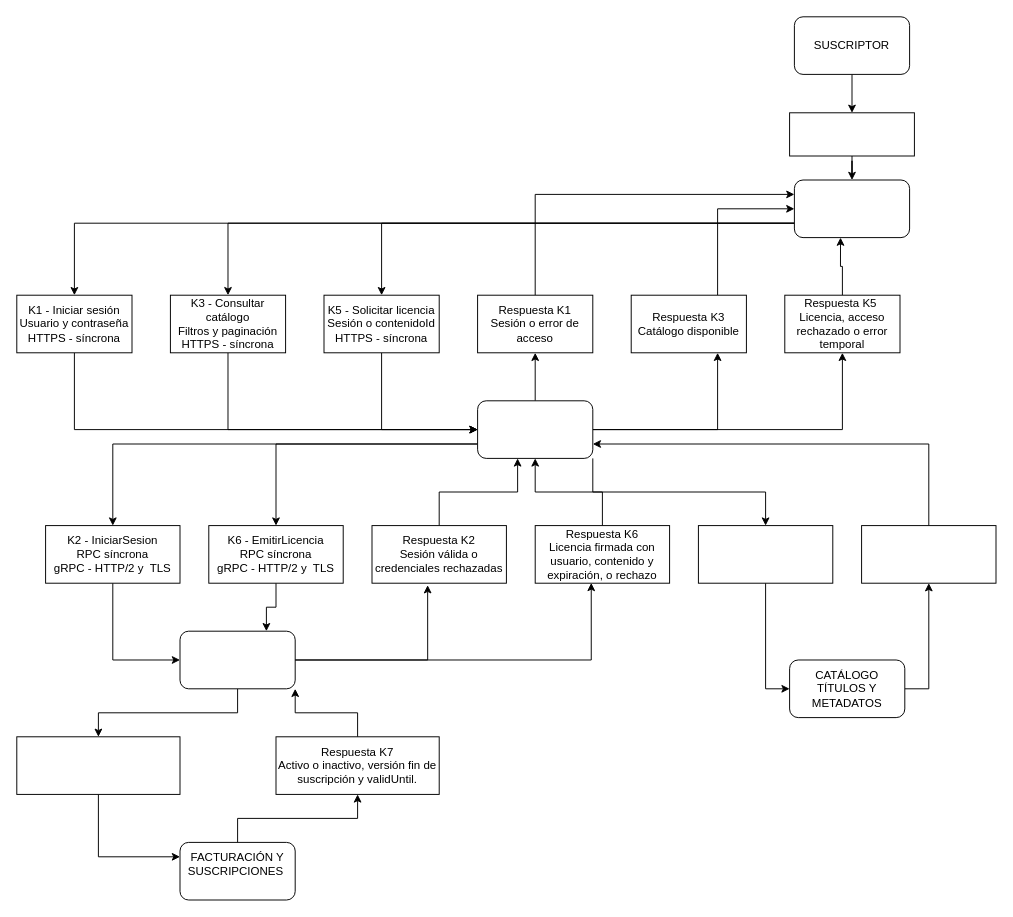
Image size: 1013x917. Some labels were removed from this diagram. Here are the shapes that lost their labels. From the top down, the centre of each, then its label:
At pixel 851 134: "reproductor Cliente web, móvil o TV".
At pixel 851 208: "REPRODUCTOR CLIENTE WEB. MÓVIL O TV".
At pixel 535 429: "ENTRADA WEB Spring Boot - HTTPS".
At pixel 765 554: "K4 - ListarTitulos RPC síncrona gRPC - HTTP/2 y TSL".
At pixel 928 554: "Respuesta K4 Identificadores, títulos y metadatos".
At pixel 237 659: "AUTENTICACIÓN Y LICENCIAS gRPC JAVA".
At pixel 98 765: "K7 - VerificarSuscripción usuarioId RPC síncrona - gRPC - HTTP/2 y TLS".
